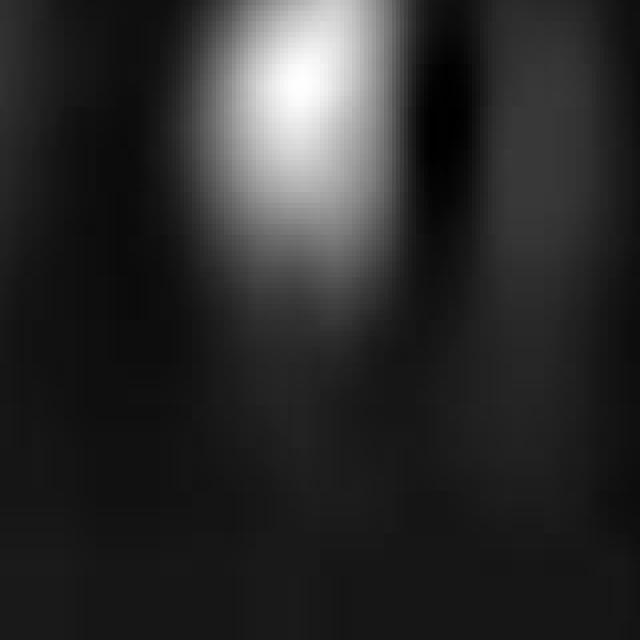person: (201, 1, 413, 396), (465, 1, 637, 465)
